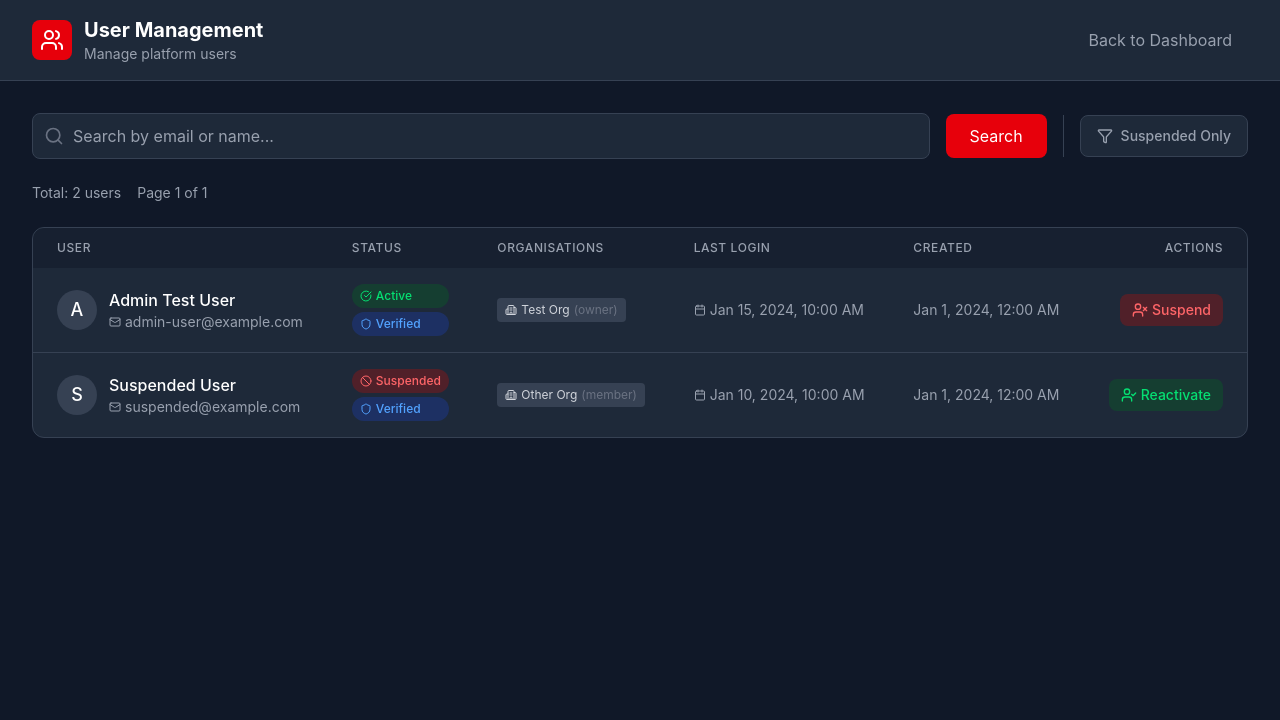
Test case: AdminUsers › suspend action › should close modal when cancel is clicked
Check: the text "Admin Test User" is shown, box [109, 290, 235, 310]
Open modal
Click the button "Suspend" at x=1172, y=310, box [1120, 294, 1223, 326]
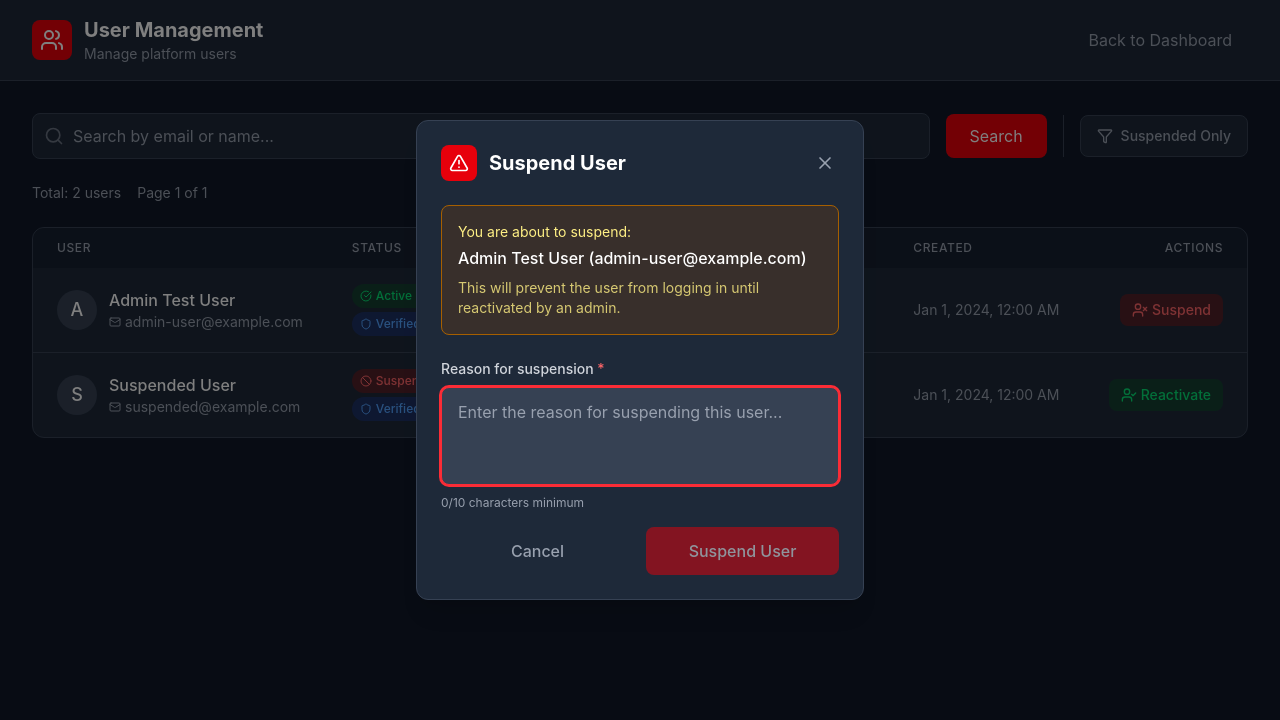
Check: the heading "Suspend User" is shown, box [489, 149, 626, 177]
Click cancel
Click the button "Cancel" at x=538, y=551, box [441, 527, 634, 575]
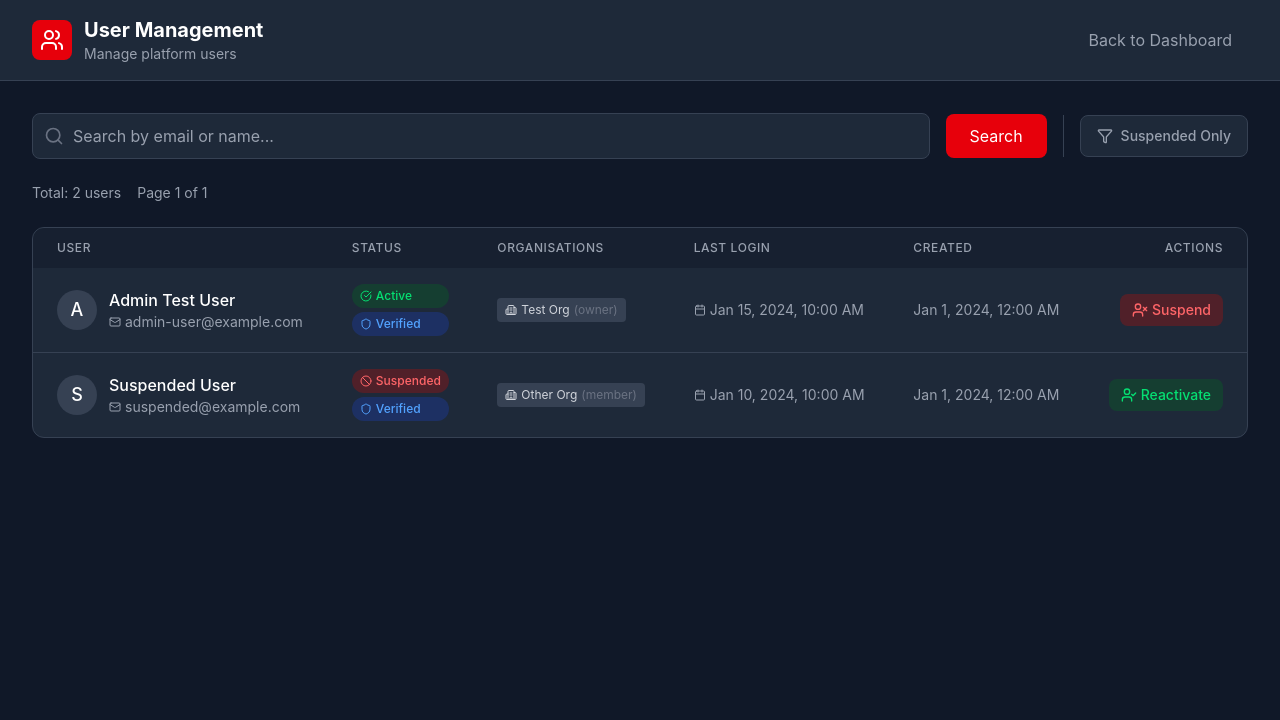
Check: the button "Cancel" is gone
